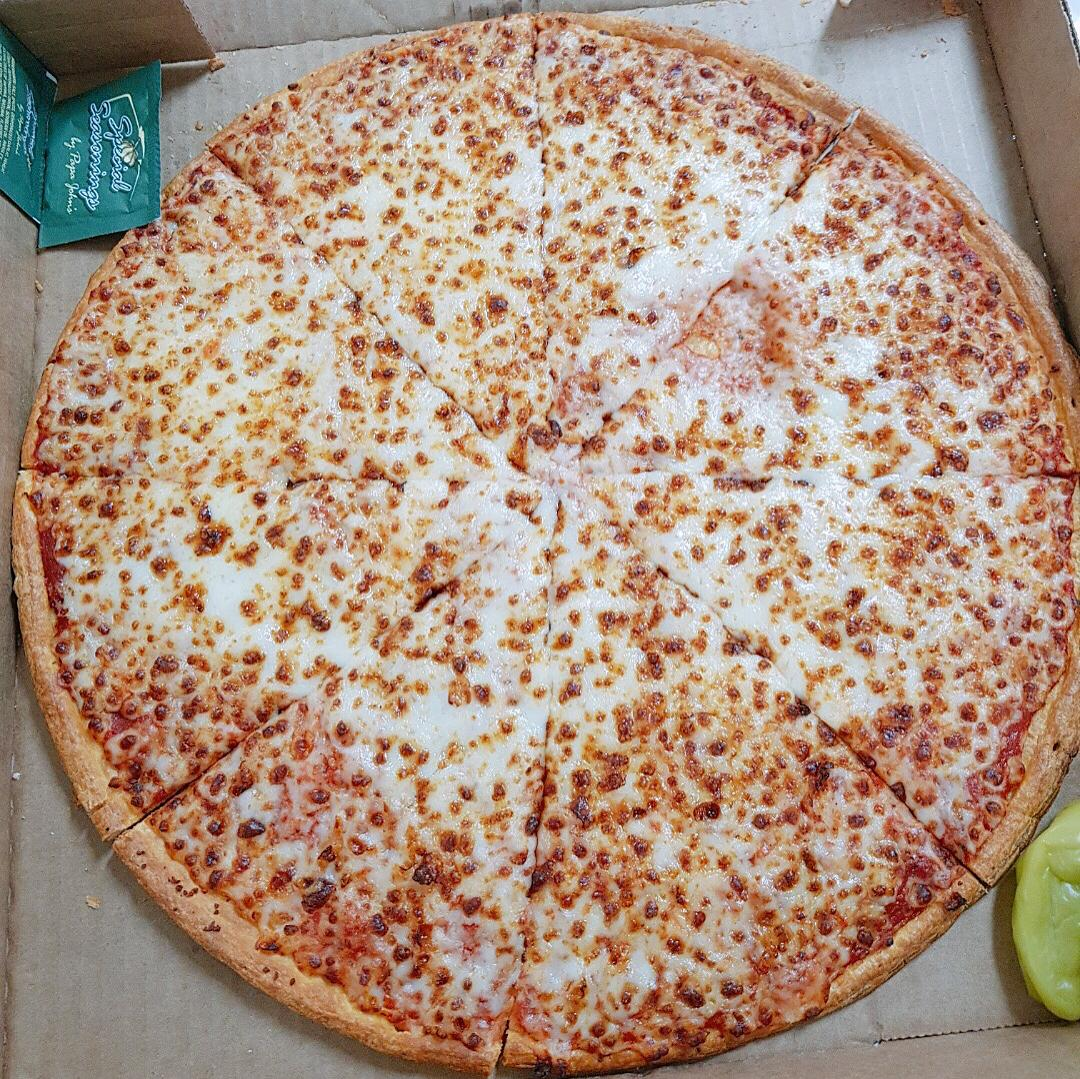Cheese: (341, 95, 749, 977), (755, 263, 1027, 843), (80, 303, 327, 877)
Pizza: (8, 7, 1080, 1079)
